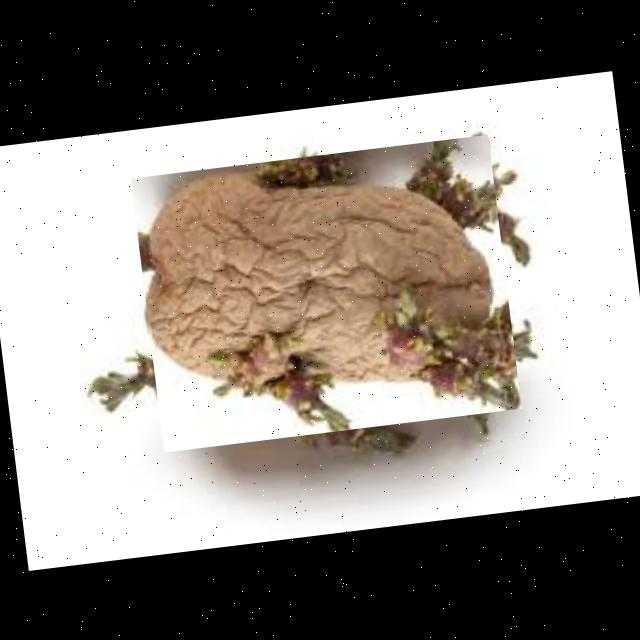Sprouted potato: (130, 134, 522, 452)
